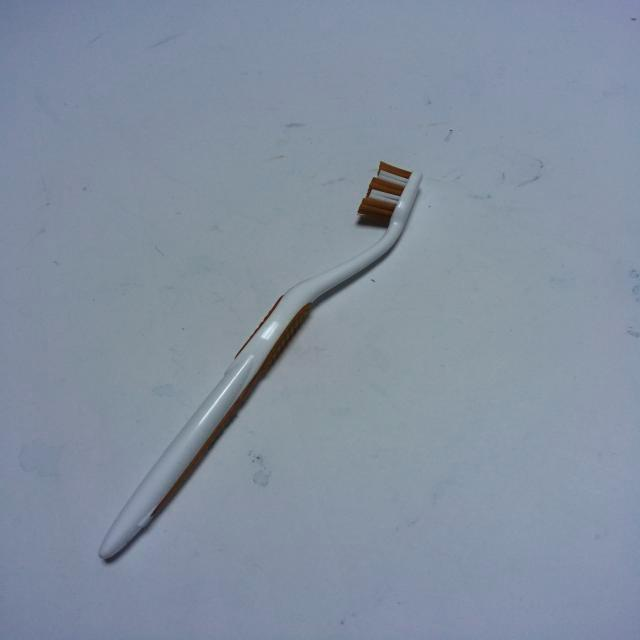plastic: (49, 133, 512, 586)
